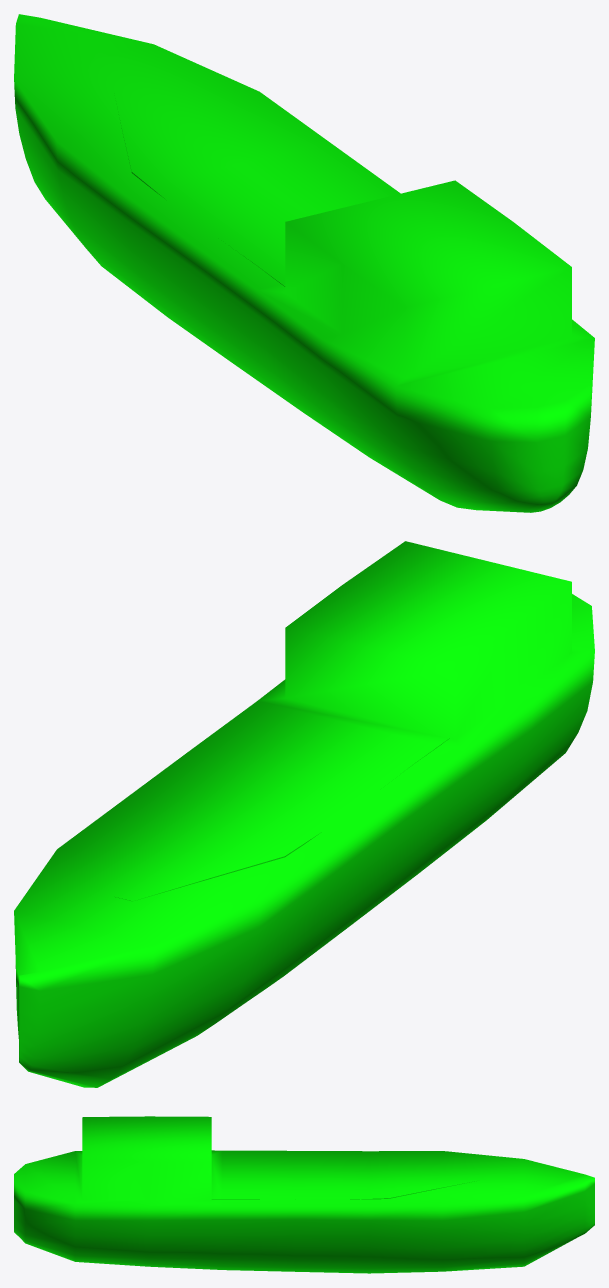
File: boatGreen.gltf
The picture shows the model from 3 angles, top to bottom: view 1: azimuth 30°, elevation 25°; view 2: azimuth 150°, elevation 25°; view 3: azimuth 270°, elevation 25°; orthographic projection. The views are drawn at different scales.
Parts seen in each view (by area): view 1: Cylinder; view 2: Cylinder; view 3: Cylinder.
Part boxes in pixels (<box>): Cylinder: <box>14,14,594,512</box>; Cylinder: <box>14,541,594,1087</box>; Cylinder: <box>14,1116,594,1273</box>.
Size of the model in its own units: 3.05 by 3.31 by 13.31.
